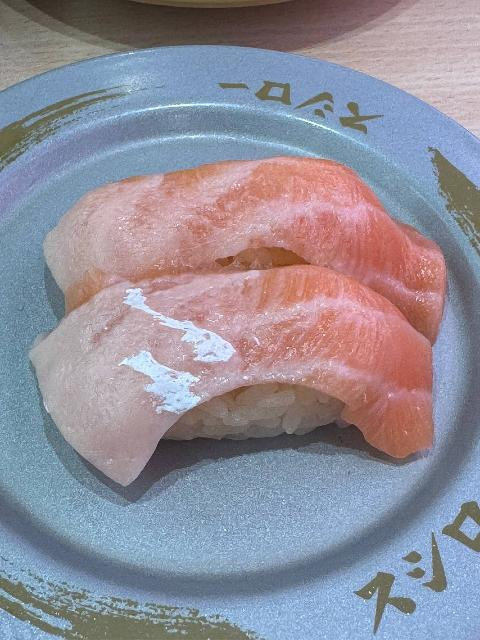janwhite: (14, 54, 478, 591)
